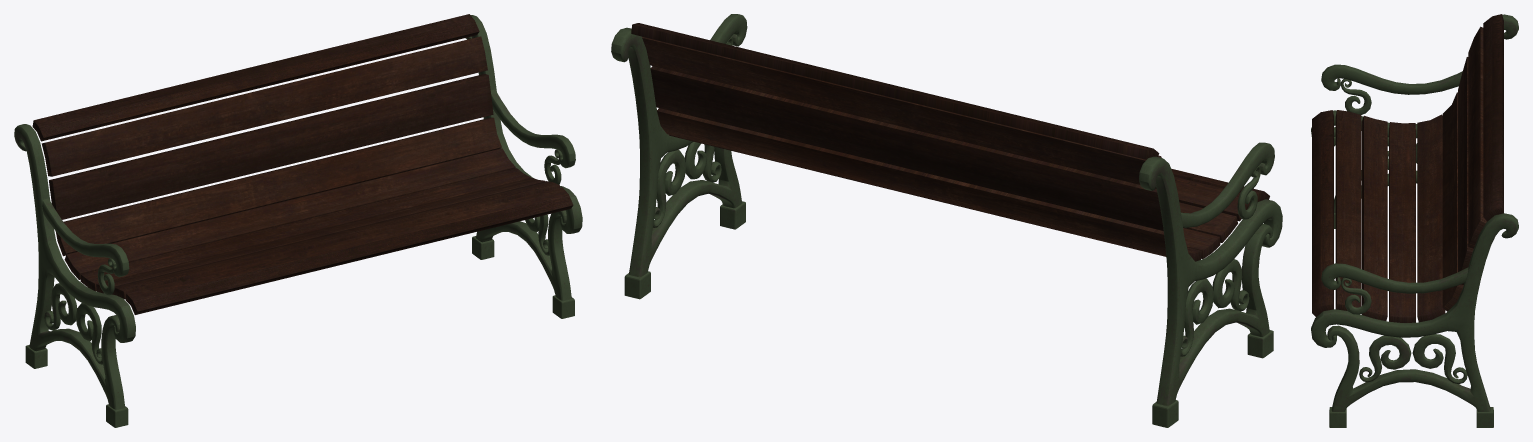
File: PARK BENCH.fbx
The picture shows the model from 3 angles, left to right: view 1: azimuth 30°, elevation 25°; view 2: azimuth 150°, elevation 25°; view 3: azimuth 270°, elevation 25°; orthographic projection. The views are drawn at different scales.
Visible parts, largest first — view 1: PARK BENCH; view 2: PARK BENCH; view 3: PARK BENCH.
Part boxes in pixels (x1,y1,x2,y2): PARK BENCH: (14, 14, 582, 427); PARK BENCH: (611, 14, 1282, 427); PARK BENCH: (1311, 14, 1518, 427).
Bounding box in the file's own units: 207 × 101 × 88.93.
